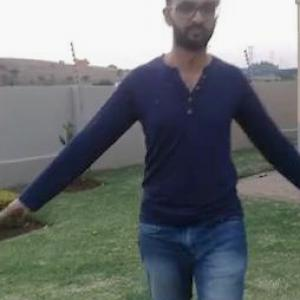land: (112, 54, 287, 299)
